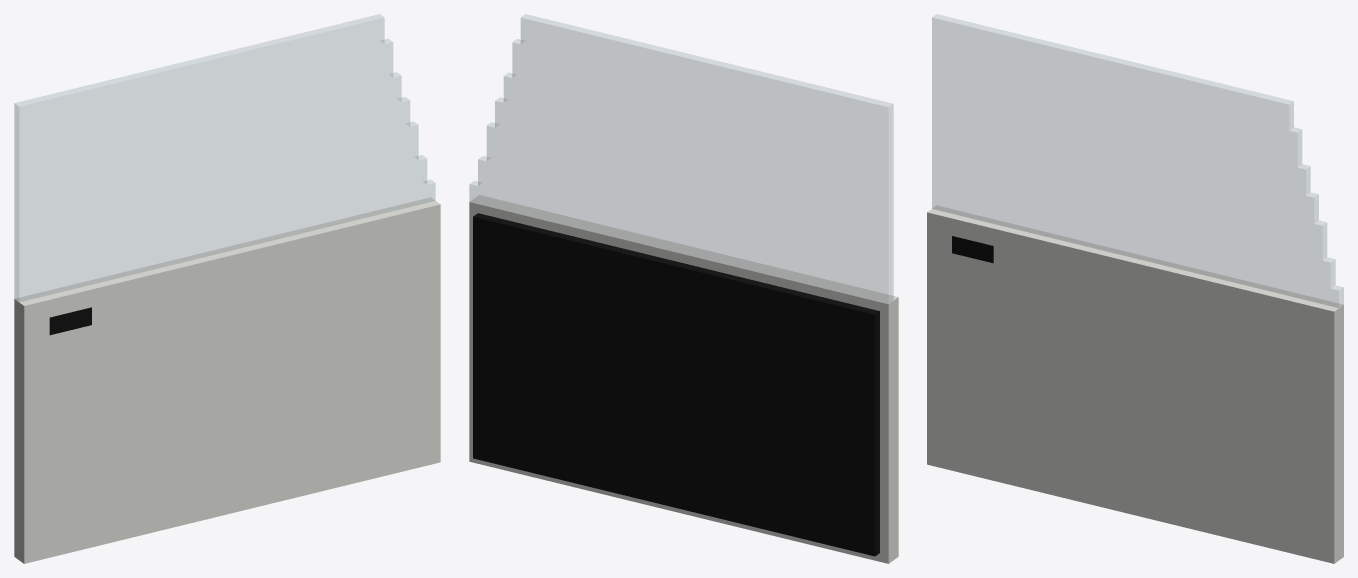
File: bucket_truck_door.glb
The picture shows the model from 3 angles, left to right: view 1: azimuth 30°, elevation 25°; view 2: azimuth 150°, elevation 25°; view 3: azimuth 330°, elevation 25°; orthographic projection. The views are drawn at different scales.
Parts seen in each view (by area): view 1: body:compound; view 2: body:compound; view 3: body:compound.
Boxes of the visible parts, left/top/right/bottom form: body:compound: left=14, top=14, right=440, bottom=563; body:compound: left=469, top=14, right=898, bottom=563; body:compound: left=927, top=14, right=1343, bottom=563.
Size of the model in its own units: 1.53 by 1.59 by 0.0938.
